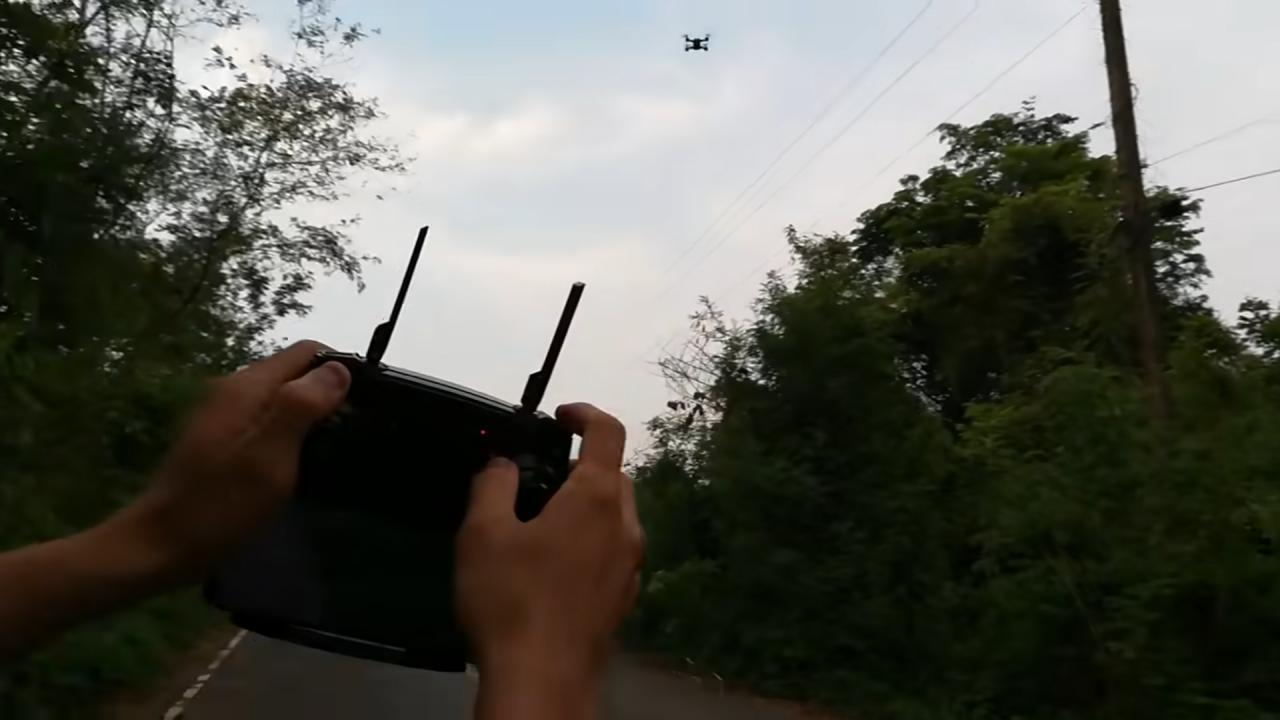Drone: (674, 24, 720, 61)
